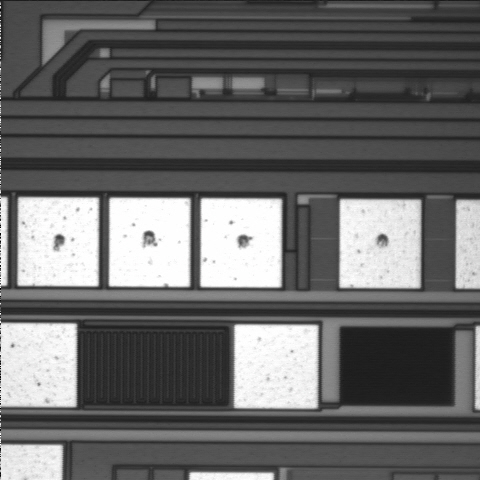pad: (200, 198, 282, 288), (18, 197, 99, 286), (109, 198, 190, 287), (340, 199, 421, 288), (234, 324, 318, 409)
